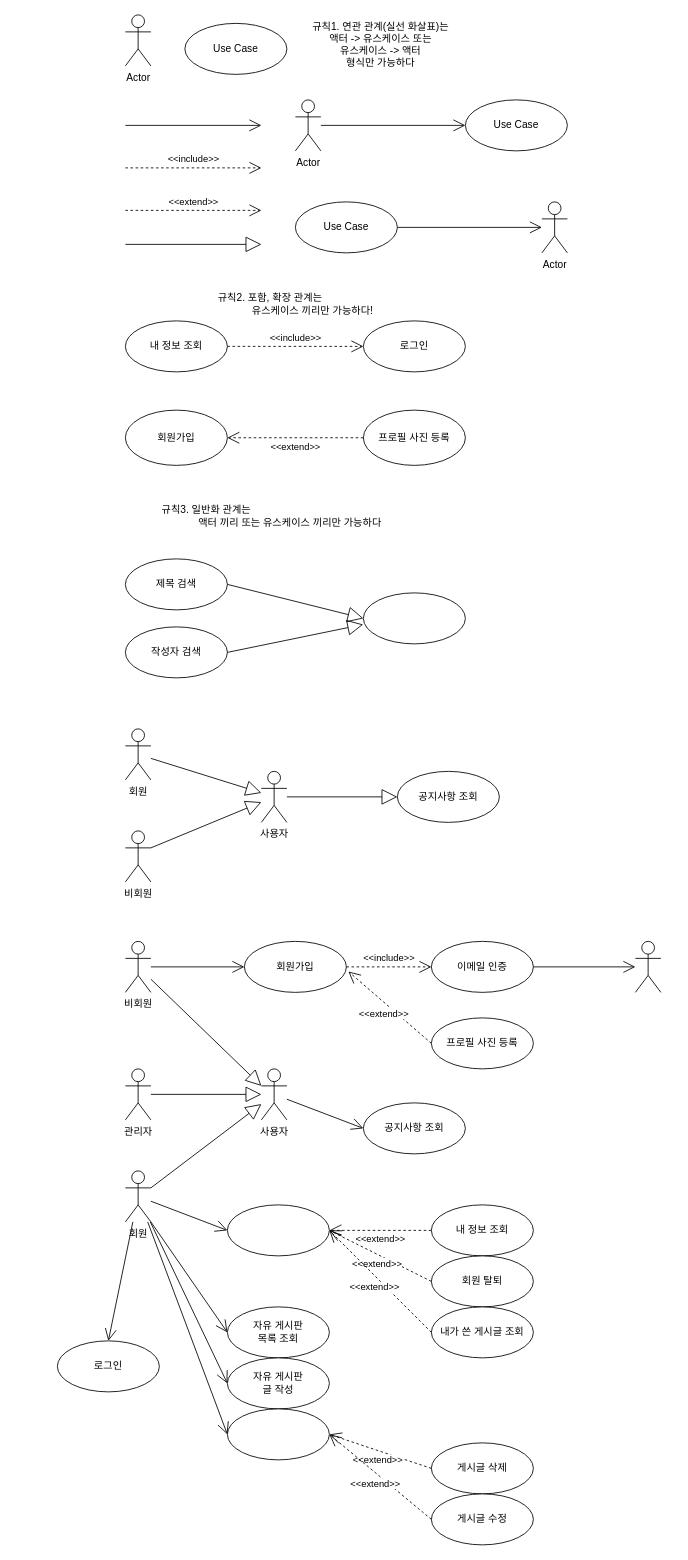
This 688x1560 diagram has some shape labels left out. The centre of each missing label's shape, as x and y in pixels:
Gmail. 서버: point (648, 966)
게시글 검색: point (414, 618)
마이페이지: point (278, 1230)
자유 게시판 글 상세조회: point (278, 1434)
